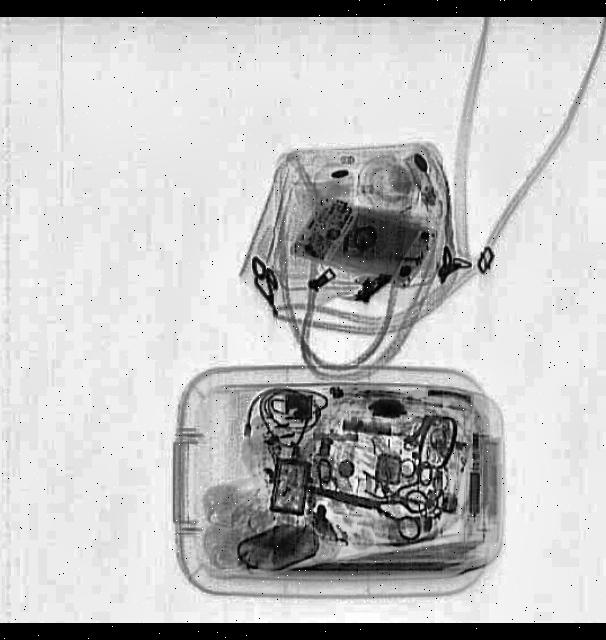Scissors: (296, 462, 428, 544)
